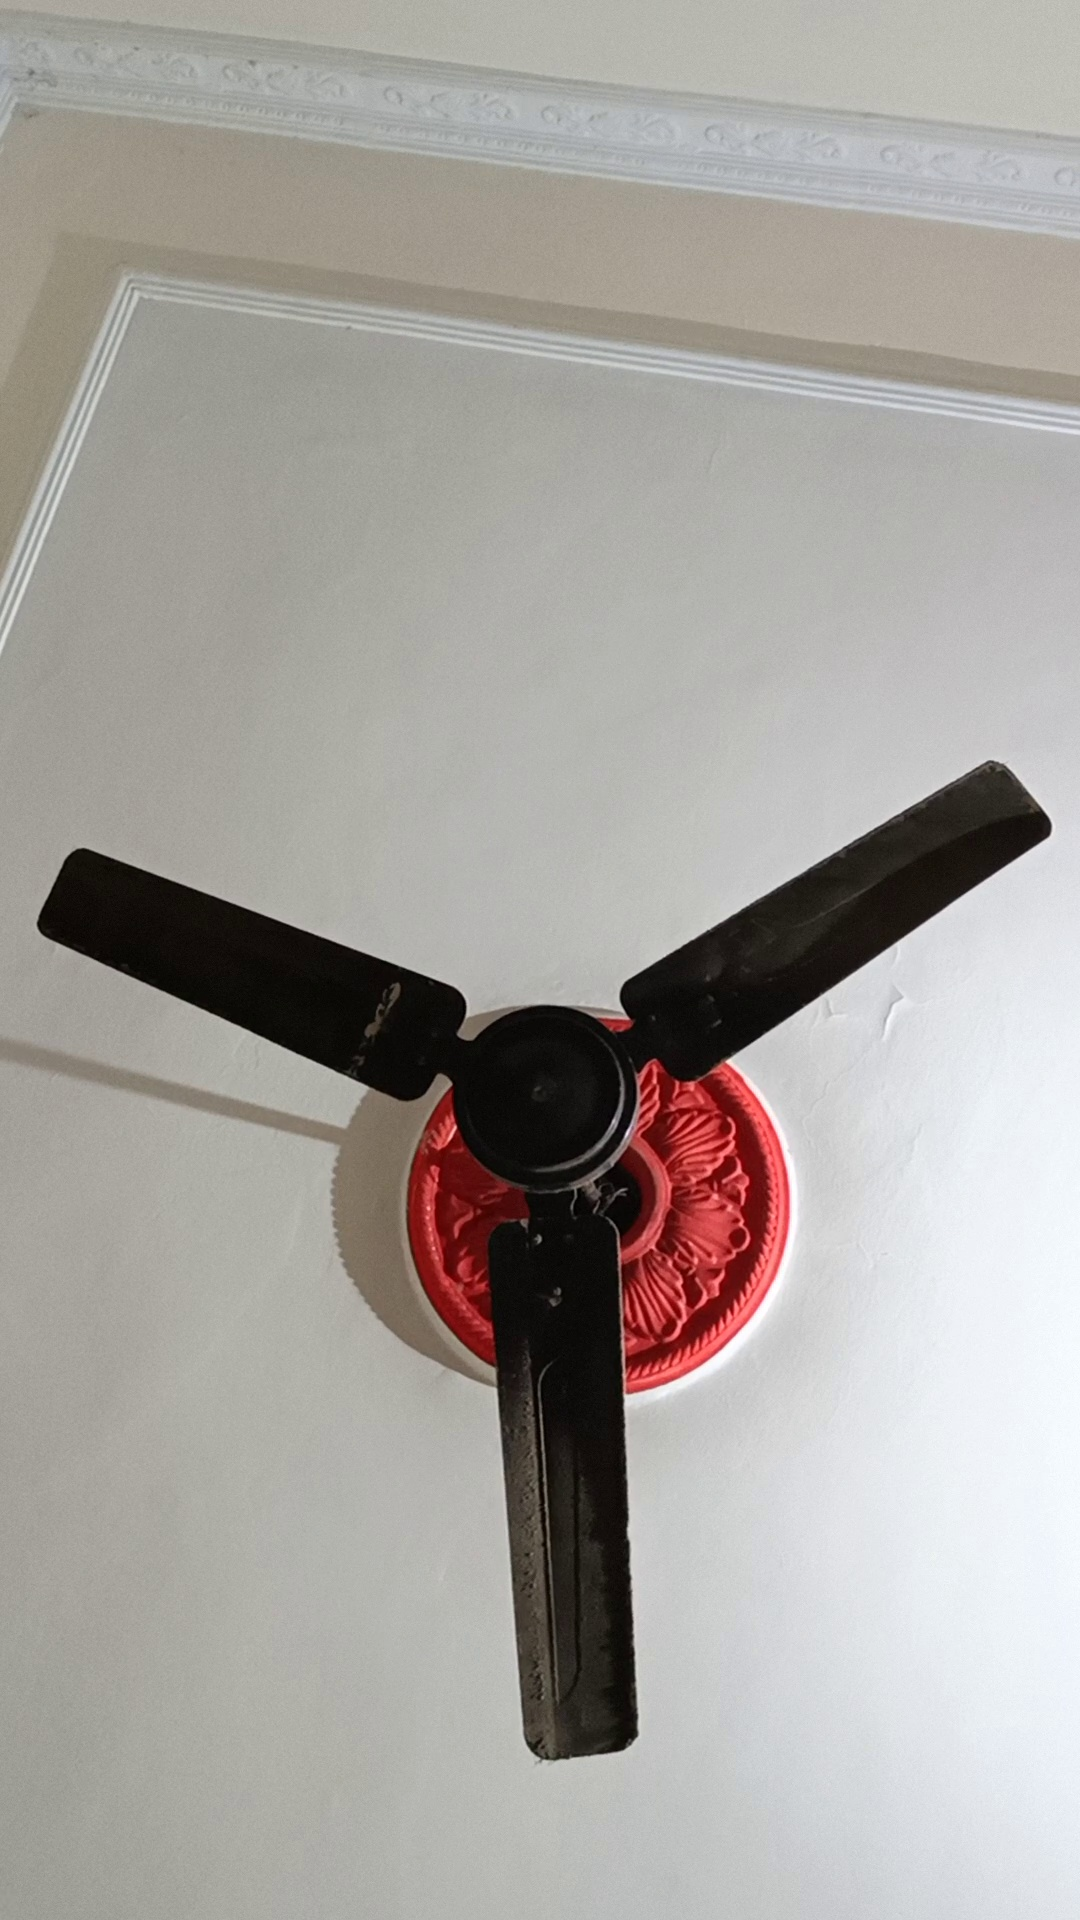fan: (287, 882, 851, 1453)
